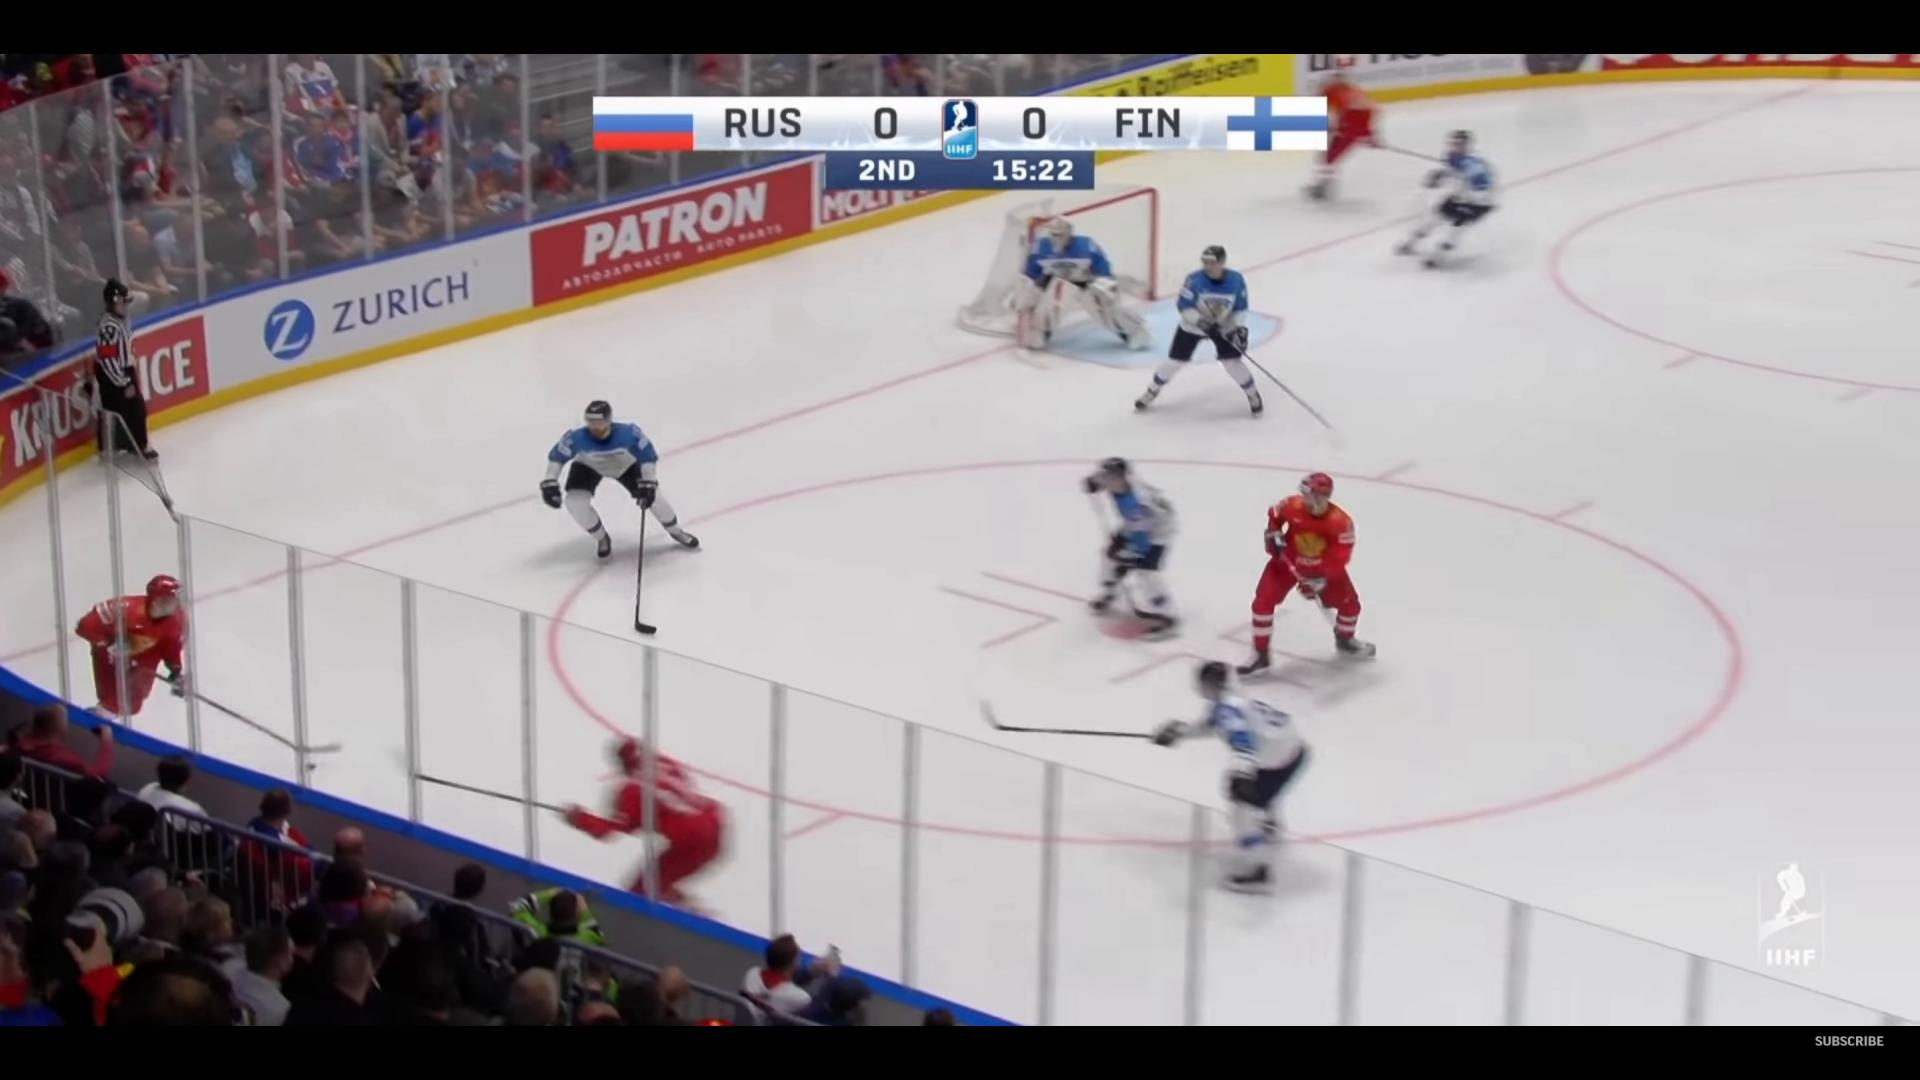puck: (303, 763, 316, 769)
